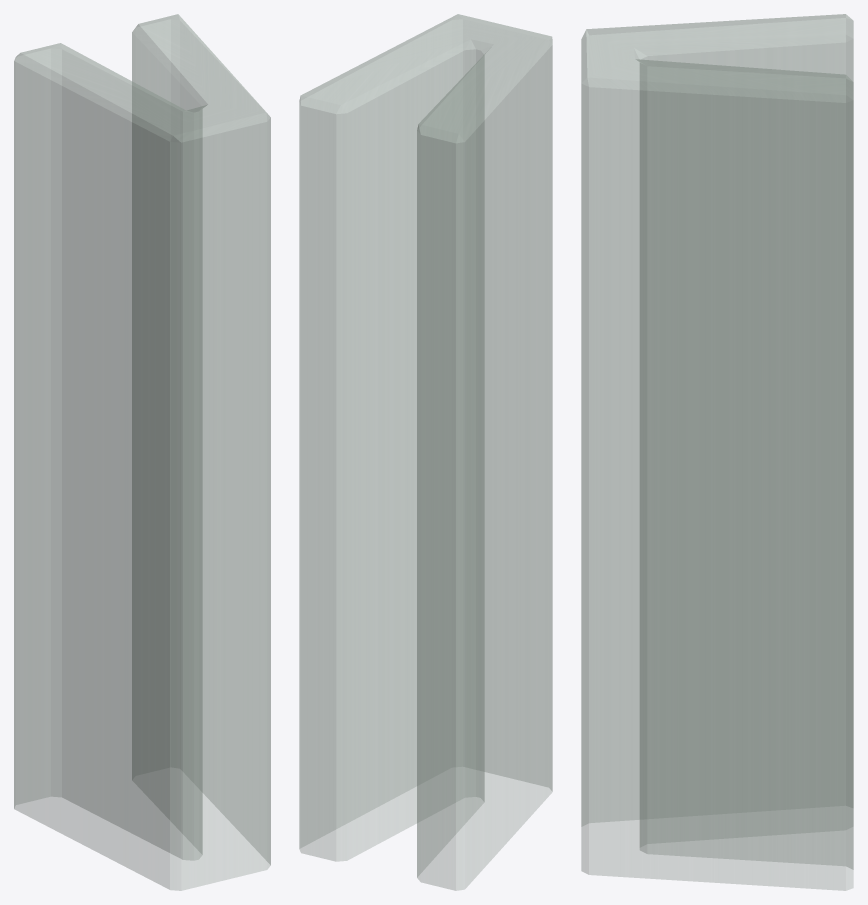
The picture shows the model from 3 angles, left to right: view 1: azimuth 30°, elevation 25°; view 2: azimuth 150°, elevation 25°; view 3: azimuth 270°, elevation 25°; orthographic projection. The views are drawn at different scales.
Visible parts, largest first — view 1: V; view 2: V; view 3: V.
Boxes of the visible parts, bbox=[...] form: V: bbox=[14, 14, 270, 890]; V: bbox=[299, 14, 552, 890]; V: bbox=[581, 14, 853, 890].
Size of the model in its own units: 0.4462 by 1.94 by 0.6019.
1 material, 1 textured.
